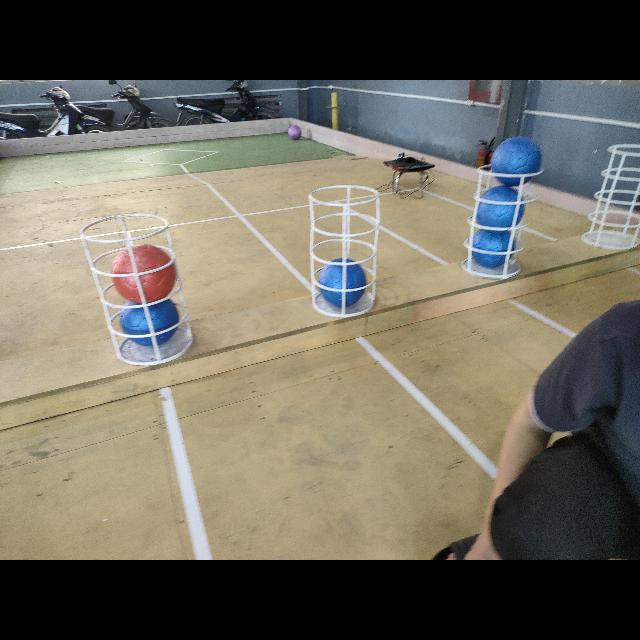B: (492, 137, 540, 191), (124, 302, 178, 346), (472, 228, 522, 274), (474, 185, 524, 231), (321, 254, 363, 306)
R: (112, 241, 178, 301)
